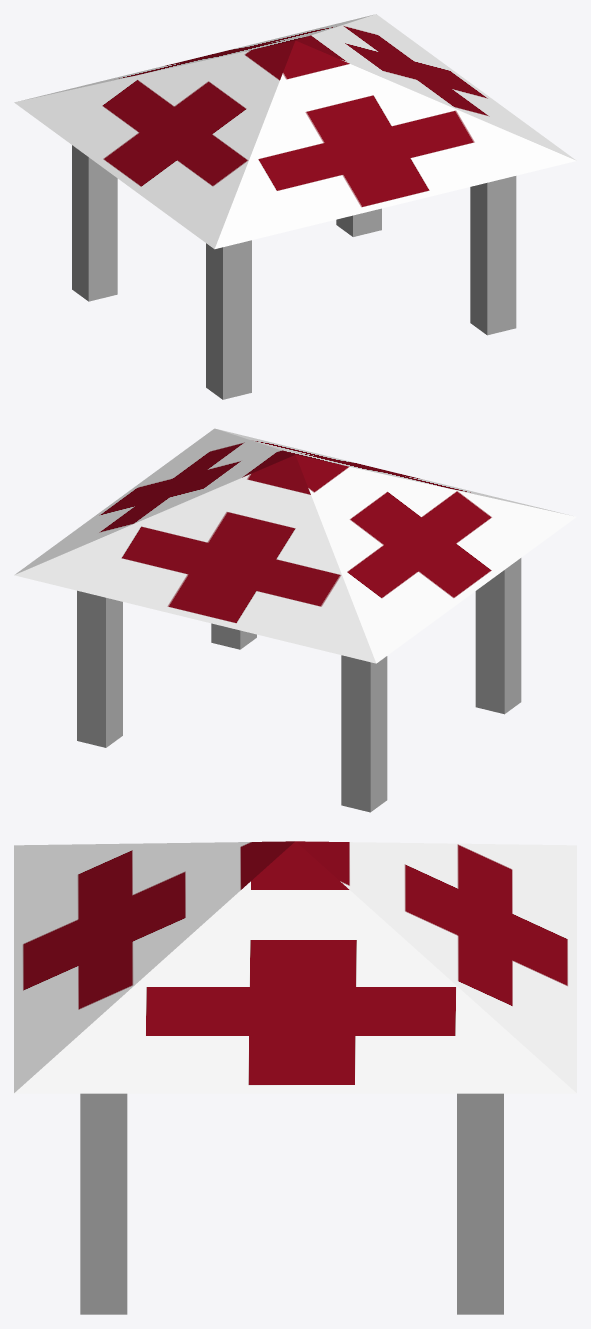
The model's file is hospital.fbx.
3 views of the same model, one above another, from view 1: azimuth 30°, elevation 25°; view 2: azimuth 150°, elevation 25°; view 3: azimuth 270°, elevation 25° (orthographic). The views are drawn at different scales.
Parts seen in each view (by area): view 1: Cube; view 2: Cube; view 3: Cube.
Part boxes in pixels (bbox=[...]): Cube: bbox=[14, 14, 576, 399]; Cube: bbox=[14, 428, 576, 812]; Cube: bbox=[14, 841, 576, 1314].
Size of the model in its own units: 831 by 585 by 797.
